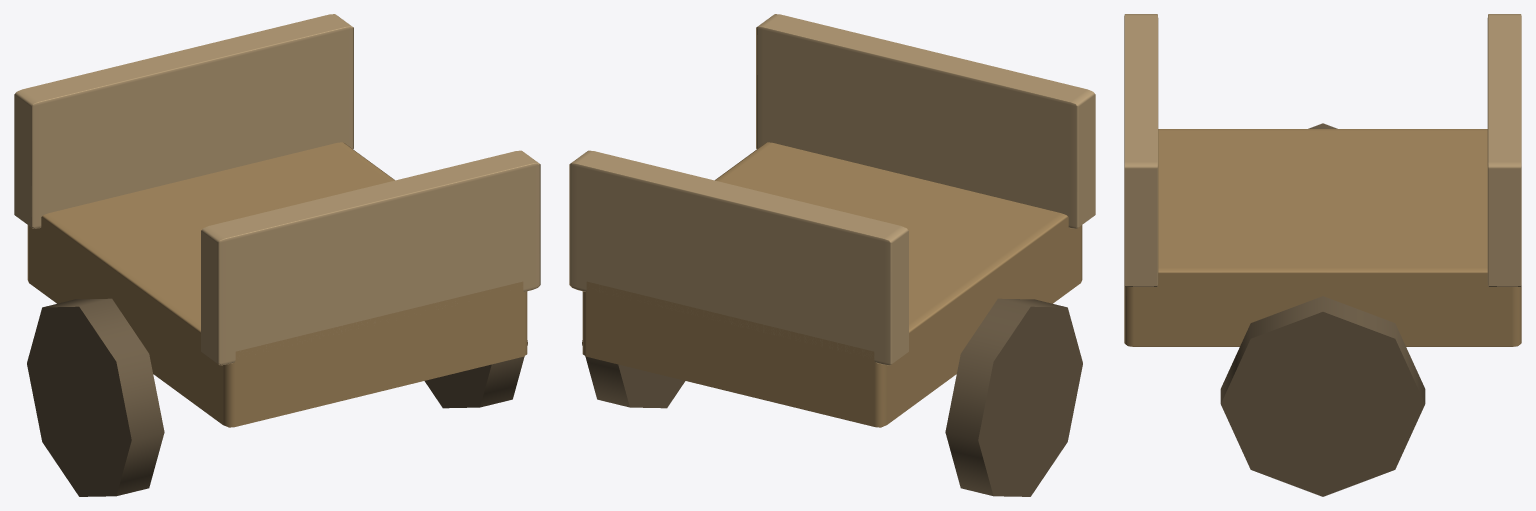
File: cart-1.glb
3 renders of one model, left to right at view 1: azimuth 30°, elevation 25°; view 2: azimuth 150°, elevation 25°; view 3: azimuth 270°, elevation 25°, orthographic. The views are drawn at different scales.
Parts seen in each view (by area): view 1: cart-1-0; view 2: cart-1-0; view 3: cart-1-0.
Part boxes in pixels (x1,y1,x2,y2): cart-1-0: [14, 14, 540, 496]; cart-1-0: [569, 14, 1095, 496]; cart-1-0: [1124, 14, 1521, 496].
Size of the model in its own units: 0.785 by 0.61 by 0.7.
